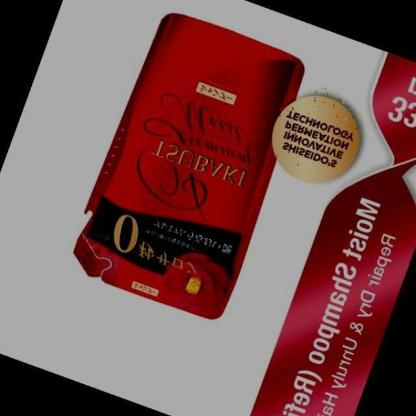Plastic Packaging: (70, 9, 306, 320)
